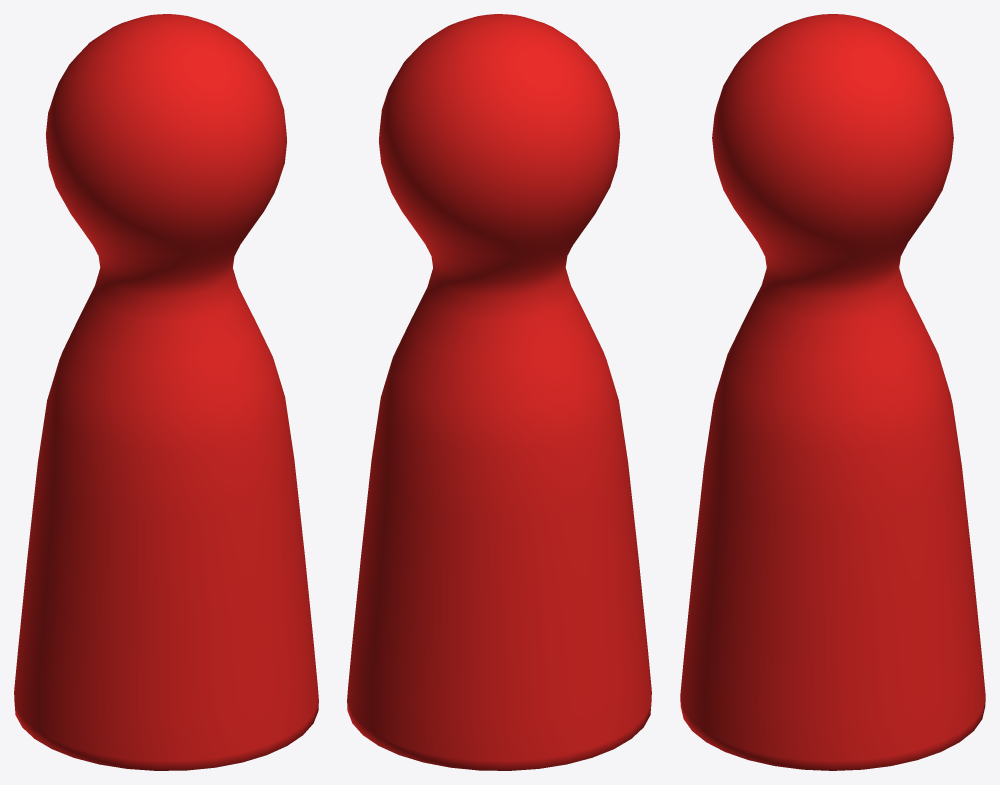
File: Pawn.glb
3 views of the same model, side by side, from view 1: azimuth 30°, elevation 25°; view 2: azimuth 150°, elevation 25°; view 3: azimuth 270°, elevation 25° (orthographic).
Visible parts, largest first — view 1: Pawn; view 2: Pawn; view 3: Pawn.
Part boxes in pixels (x1,y1,x2,y2): Pawn: (14,14,318,770); Pawn: (347,14,651,770); Pawn: (680,14,985,770).
Size of the model in its own units: 2.4 by 5.93 by 2.4.
